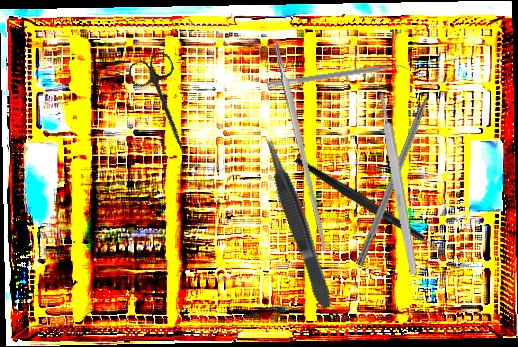Chopper: (292, 114, 455, 293)
Hook Surgical: (355, 73, 442, 268)
Iris Scissors: (125, 49, 207, 162)
Scalpel Handle: (272, 41, 330, 252), (376, 91, 420, 276)
Spatula Surgical: (266, 60, 409, 94)
Tissue Forceps: (259, 134, 336, 312)
